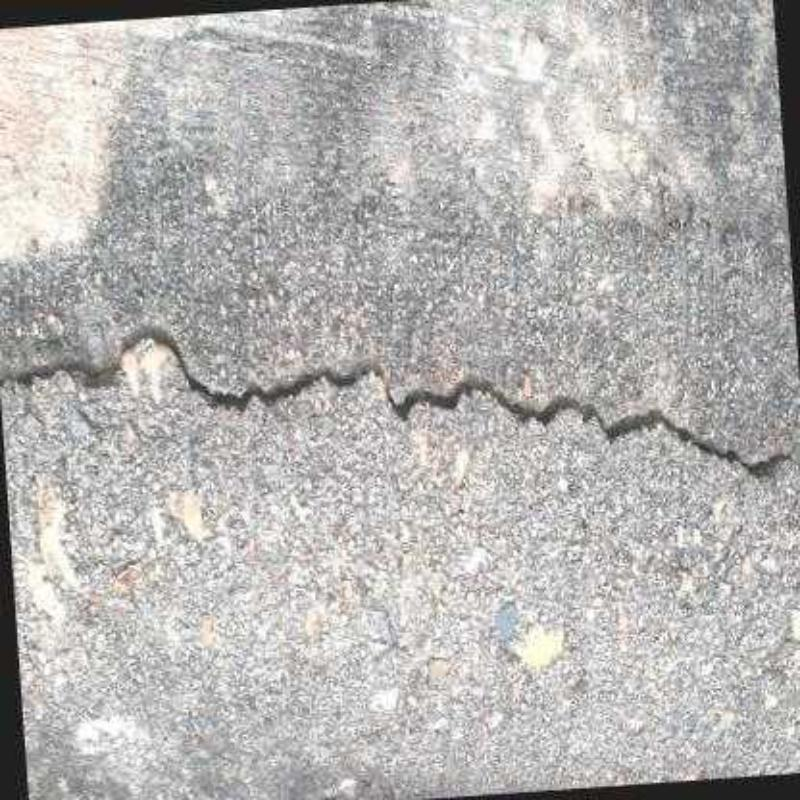pothole: (0, 325, 800, 478)
